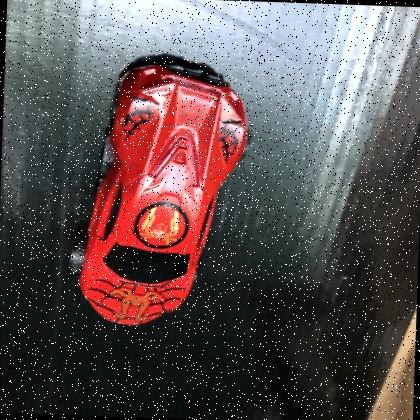Car: (77, 56, 249, 324)
